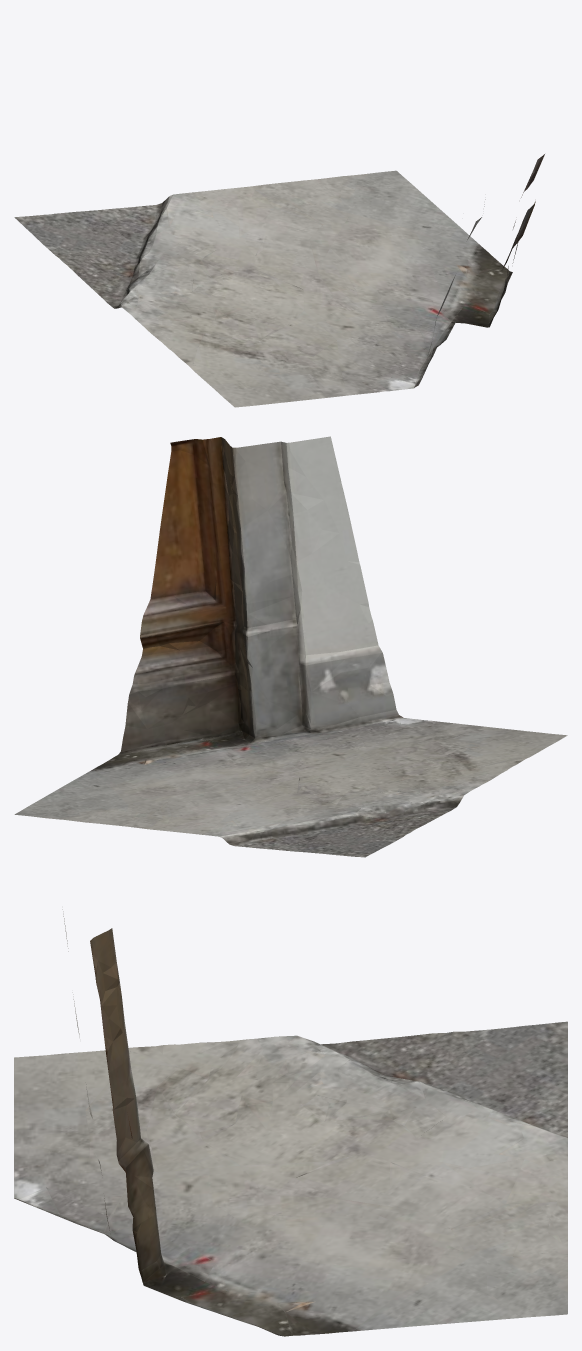
3 renders of one model, top to bottom at view 1: azimuth 30°, elevation 25°; view 2: azimuth 150°, elevation 25°; view 3: azimuth 270°, elevation 25°, orthographic. The views are drawn at different scales.
Size of the model in its own units: 1.67 by 1.25 by 1.67.
Materials: 3 (3 with a texture image).
